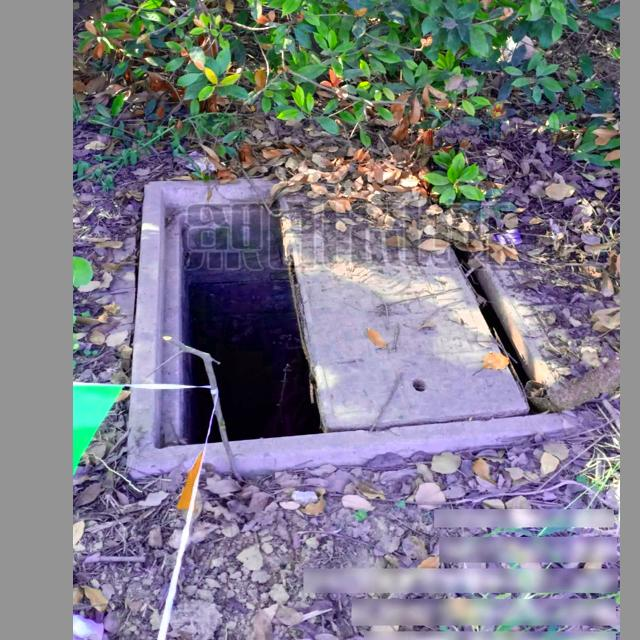lose: (125, 162, 615, 476)
